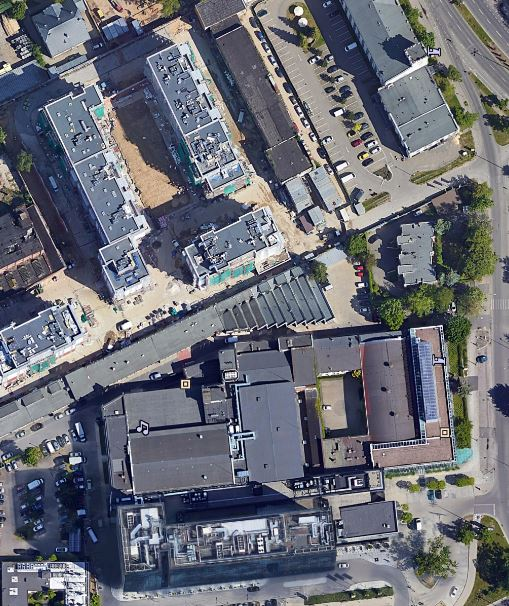block of flats: (189, 1, 346, 190), (34, 80, 148, 310), (329, 1, 467, 161), (142, 39, 255, 199), (176, 198, 290, 296), (1, 294, 93, 381)
shopping_center: (112, 308, 475, 602)
